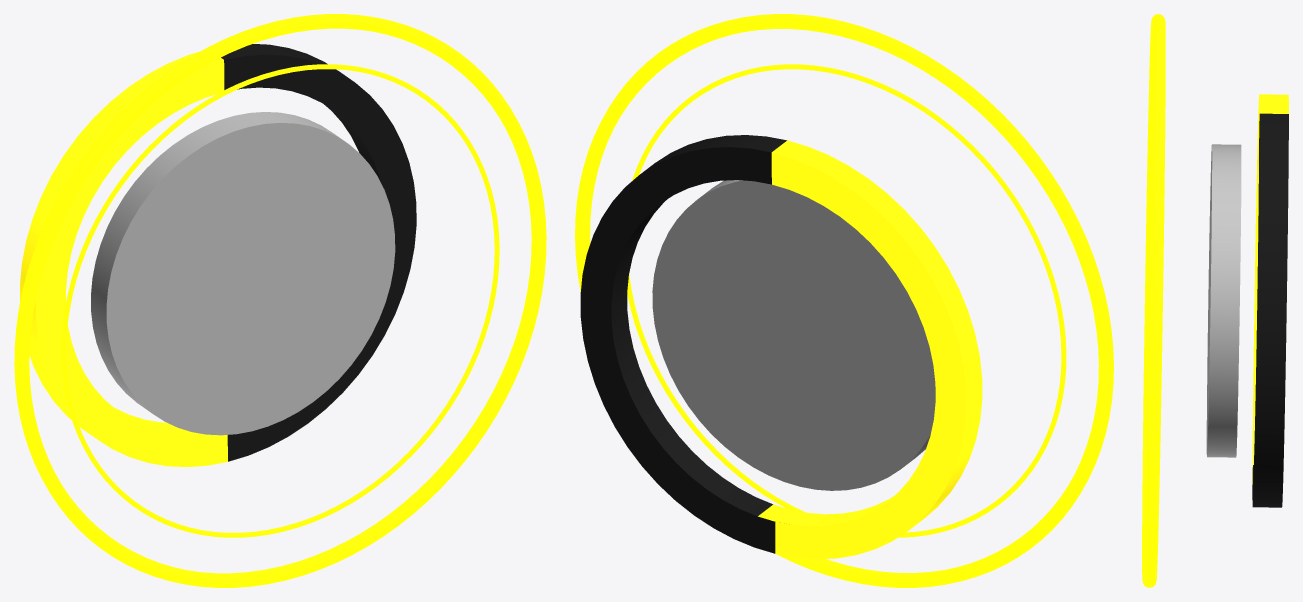
Rendered from pie.gltf.
3 views of the same model, side by side, from view 1: azimuth 30°, elevation 25°; view 2: azimuth 150°, elevation 25°; view 3: azimuth 270°, elevation 25° (orthographic). The views are drawn at different scales.
Visible parts, largest first — view 1: Circle, BezierCircle.001, Circle.001, Circle.002, BezierCircle; view 2: Circle, Circle.001, Circle.002, BezierCircle.001, BezierCircle; view 3: Circle.002, BezierCircle.001, Circle, Circle.001.
Part boxes in pixels (<box>): Circle: <box>91,112,395,435</box>; BezierCircle.001: <box>14,14,546,587</box>; Circle.001: <box>20,51,227,466</box>; Circle.002: <box>221,44,416,461</box>; BezierCircle: <box>61,64,499,537</box>; Circle: <box>652,180,935,490</box>; Circle.001: <box>758,140,982,559</box>; Circle.002: <box>580,135,786,553</box>; BezierCircle.001: <box>575,14,1113,587</box>; BezierCircle: <box>627,64,1066,537</box>; Circle.002: <box>1252,113,1288,507</box>; BezierCircle.001: <box>1142,14,1165,587</box>; Circle: <box>1206,144,1241,457</box>; Circle.001: <box>1252,94,1288,484</box>.
Bounding box in the file's own units: 3.67 × 3.67 × 0.9389.
